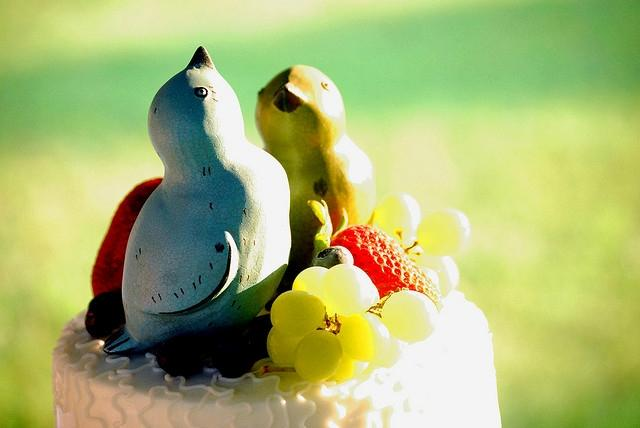grape: (322, 264, 380, 315), (381, 291, 439, 342), (270, 290, 326, 338), (416, 208, 471, 256), (294, 330, 342, 382), (376, 192, 421, 246), (340, 314, 390, 362), (409, 252, 459, 298), (292, 266, 336, 318), (266, 326, 316, 367), (326, 350, 370, 382)
strawberry: (329, 224, 444, 314), (90, 174, 162, 297)
